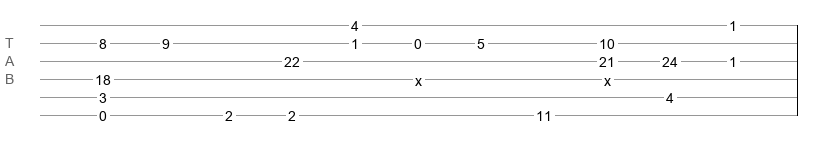0: (99, 108, 107, 118), (414, 36, 422, 46)
1: (351, 36, 359, 46), (729, 18, 737, 28), (729, 54, 737, 64)
10: (599, 36, 615, 46)
11: (536, 108, 552, 118)
18: (95, 72, 111, 82)
2: (225, 108, 233, 118), (288, 108, 296, 118)
21: (599, 54, 615, 64)
22: (284, 54, 300, 64)
24: (662, 54, 678, 64)
3: (99, 90, 107, 100)
4: (351, 18, 359, 28), (666, 90, 674, 100)
5: (477, 36, 485, 46)
8: (99, 36, 107, 46)
9: (162, 36, 170, 46)
x: (415, 73, 422, 81), (604, 73, 611, 81)
